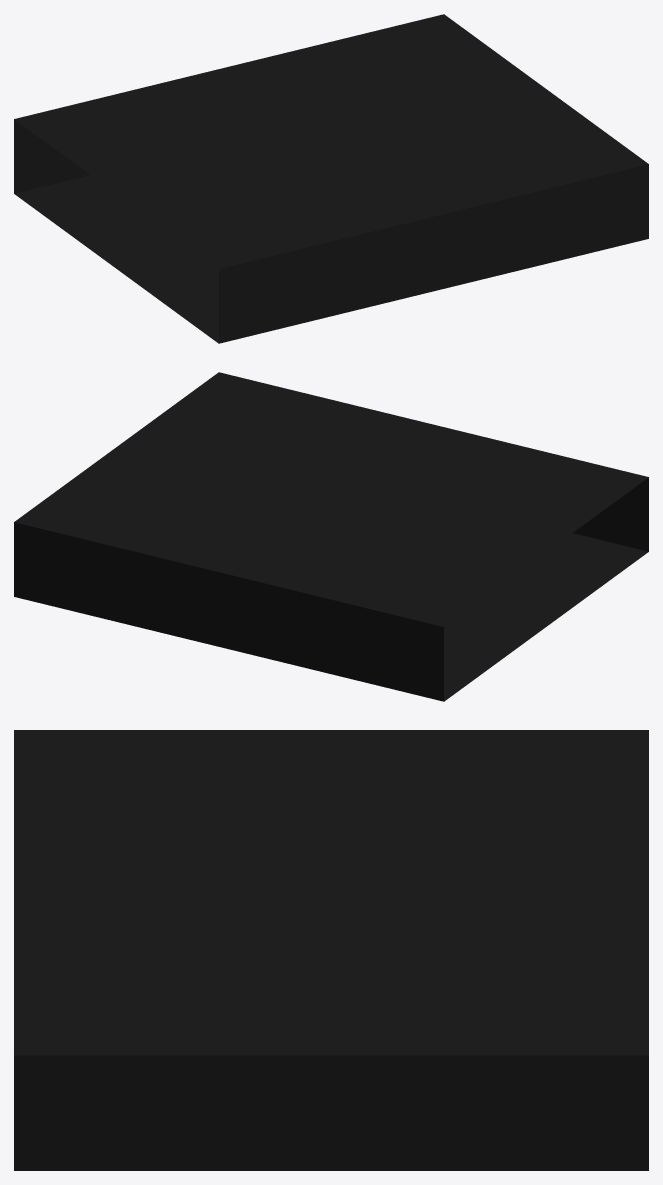
The model's file is Itr_Bartable_Base_Right_03.FBX.
The picture shows the model from 3 angles, top to bottom: view 1: azimuth 30°, elevation 25°; view 2: azimuth 150°, elevation 25°; view 3: azimuth 270°, elevation 25°; orthographic projection. The views are drawn at different scales.
Parts seen in each view (by area): view 1: Itr_Bartable_Base_Right_03; view 2: Itr_Bartable_Base_Right_03; view 3: Itr_Bartable_Base_Right_03.
Part boxes in pixels (<box>): Itr_Bartable_Base_Right_03: <box>14,14,648,343</box>; Itr_Bartable_Base_Right_03: <box>14,372,648,701</box>; Itr_Bartable_Base_Right_03: <box>14,730,648,1170</box>.
Bounding box in the file's own units: 23.05 × 3.82 × 19.02.
